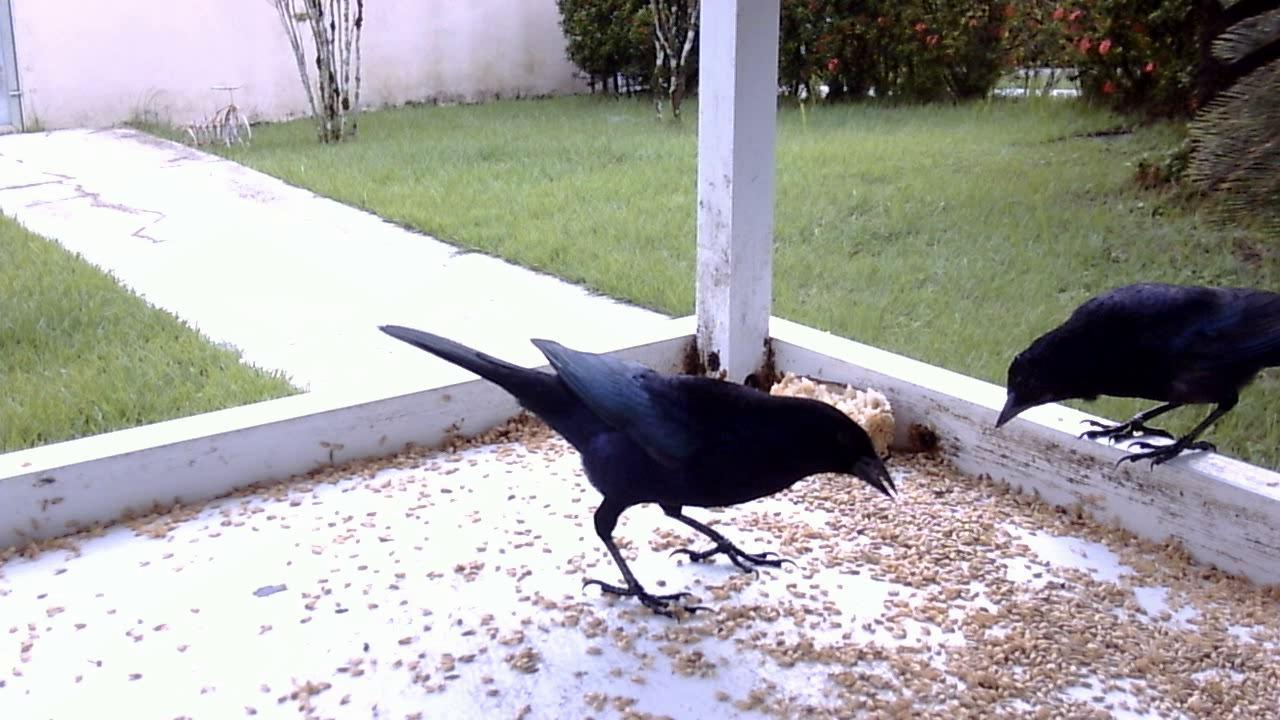chupim: (372, 315, 900, 625), (985, 272, 1273, 486)
